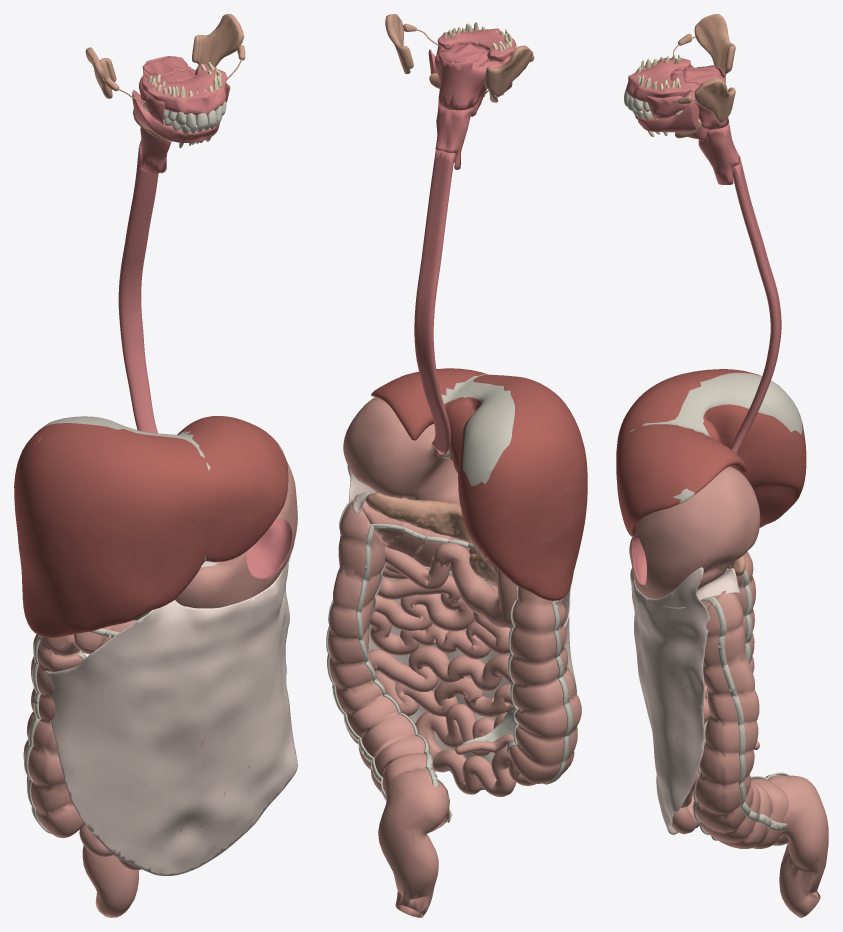
File: adult_male.digestive.LOD0.glb
3 views of the same model, side by side, from view 1: azimuth 30°, elevation 25°; view 2: azimuth 150°, elevation 25°; view 3: azimuth 270°, elevation 25° (orthographic). The views are drawn at different scales.
Visible parts, largest first — view 1: ADULT.MALE.DIGESTIVE.GREATER_OMENTUM, ADULT.MALE.DIGESTIVE.LIVER, ADULT.MALE.DIGESTIVE.ASCENDING_COLON, ADULT.MALE.DIGESTIVE.OESOPHAGUS, ADULT.MALE.DIGESTIVE.STOMACH, ADULT.MALE.DIGESTIVE.GINGIVA, ADULT.MALE.DIGESTIVE.SIGMOID_COLON, ADULT.MALE.DIGESTIVE.MUCOSA_OF_STOMACH, ADULT.MALE.DIGESTIVE.PAROTID_GLAND.L, ADULT.MALE.DIGESTIVE.MESOCOLIC_TAENIA, ADULT.MALE.DIGESTIVE.LARYNGOPHARYNX, ADULT.MALE.DIGESTIVE.SOFT_PALATE (+4 smaller); view 2: ADULT.MALE.DIGESTIVE.LIVER, ADULT.MALE.DIGESTIVE.JEJUNUM, ADULT.MALE.DIGESTIVE.DESCENDING_COLON, ADULT.MALE.DIGESTIVE.ASCENDING_COLON, ADULT.MALE.DIGESTIVE.STOMACH, ADULT.MALE.DIGESTIVE.SIGMOID_COLON, ADULT.MALE.DIGESTIVE.OESOPHAGUS, ADULT.MALE.DIGESTIVE.PANCREAS, ADULT.MALE.DIGESTIVE.DUODENUM, ADULT.MALE.DIGESTIVE.FREE_TAENIA, ADULT.MALE.DIGESTIVE.OROPHARYNX, ADULT.MALE.DIGESTIVE.GREATER_OMENTUM (+9 smaller); view 3: ADULT.MALE.DIGESTIVE.LIVER, ADULT.MALE.DIGESTIVE.GREATER_OMENTUM, ADULT.MALE.DIGESTIVE.DESCENDING_COLON, ADULT.MALE.DIGESTIVE.STOMACH, ADULT.MALE.DIGESTIVE.SIGMOID_COLON, ADULT.MALE.DIGESTIVE.OESOPHAGUS, ADULT.MALE.DIGESTIVE.GINGIVA, ADULT.MALE.DIGESTIVE.MESOCOLIC_TAENIA, ADULT.MALE.DIGESTIVE.LARYNGOPHARYNX, ADULT.MALE.DIGESTIVE.PAROTID_GLAND.R, ADULT.MALE.DIGESTIVE.OROPHARYNX, ADULT.MALE.DIGESTIVE.PAROTID_GLAND.L (+6 smaller).
Boxes of the visible parts, x1=… form: ADULT.MALE.DIGESTIVE.GREATER_OMENTUM: x1=44, y1=559, x2=297, y2=875; ADULT.MALE.DIGESTIVE.LIVER: x1=14, y1=416, x2=288, y2=637; ADULT.MALE.DIGESTIVE.ASCENDING_COLON: x1=23, y1=634, x2=84, y2=838; ADULT.MALE.DIGESTIVE.OESOPHAGUS: x1=118, y1=145, x2=158, y2=433; ADULT.MALE.DIGESTIVE.STOMACH: x1=175, y1=462, x2=297, y2=608; ADULT.MALE.DIGESTIVE.GINGIVA: x1=132, y1=64, x2=227, y2=142; ADULT.MALE.DIGESTIVE.SIGMOID_COLON: x1=82, y1=845, x2=138, y2=917; ADULT.MALE.DIGESTIVE.MUCOSA_OF_STOMACH: x1=246, y1=519, x2=292, y2=579; ADULT.MALE.DIGESTIVE.PAROTID_GLAND.L: x1=192, y1=14, x2=244, y2=66; ADULT.MALE.DIGESTIVE.MESOCOLIC_TAENIA: x1=24, y1=628, x2=119, y2=833; ADULT.MALE.DIGESTIVE.LARYNGOPHARYNX: x1=139, y1=127, x2=171, y2=174; ADULT.MALE.DIGESTIVE.SOFT_PALATE: x1=142, y1=57, x2=196, y2=82; ADULT.MALE.DIGESTIVE.LIVER: x1=371, y1=368, x2=587, y2=600; ADULT.MALE.DIGESTIVE.JEJUNUM: x1=368, y1=545, x2=535, y2=796; ADULT.MALE.DIGESTIVE.DESCENDING_COLON: x1=328, y1=499, x2=449, y2=832; ADULT.MALE.DIGESTIVE.ASCENDING_COLON: x1=509, y1=586, x2=581, y2=783; ADULT.MALE.DIGESTIVE.STOMACH: x1=343, y1=397, x2=460, y2=504; ADULT.MALE.DIGESTIVE.SIGMOID_COLON: x1=378, y1=771, x2=449, y2=917; ADULT.MALE.DIGESTIVE.OESOPHAGUS: x1=414, y1=149, x2=454, y2=454; ADULT.MALE.DIGESTIVE.PANCREAS: x1=366, y1=493, x2=497, y2=583; ADULT.MALE.DIGESTIVE.DUODENUM: x1=432, y1=543, x2=518, y2=627; ADULT.MALE.DIGESTIVE.FREE_TAENIA: x1=356, y1=523, x2=519, y2=787; ADULT.MALE.DIGESTIVE.OROPHARYNX: x1=435, y1=45, x2=511, y2=110; ADULT.MALE.DIGESTIVE.GREATER_OMENTUM: x1=347, y1=465, x2=576, y2=790; ADULT.MALE.DIGESTIVE.LIVER: x1=616, y1=369, x2=806, y2=536; ADULT.MALE.DIGESTIVE.GREATER_OMENTUM: x1=630, y1=567, x2=710, y2=834; ADULT.MALE.DIGESTIVE.DESCENDING_COLON: x1=695, y1=591, x2=788, y2=848; ADULT.MALE.DIGESTIVE.STOMACH: x1=629, y1=466, x2=760, y2=598; ADULT.MALE.DIGESTIVE.SIGMOID_COLON: x1=778, y1=775, x2=828, y2=917; ADULT.MALE.DIGESTIVE.OESOPHAGUS: x1=730, y1=157, x2=781, y2=453; ADULT.MALE.DIGESTIVE.GINGIVA: x1=626, y1=57, x2=699, y2=132; ADULT.MALE.DIGESTIVE.MESOCOLIC_TAENIA: x1=701, y1=597, x2=786, y2=831; ADULT.MALE.DIGESTIVE.LARYNGOPHARYNX: x1=698, y1=122, x2=740, y2=184; ADULT.MALE.DIGESTIVE.PAROTID_GLAND.R: x1=694, y1=14, x2=735, y2=74; ADULT.MALE.DIGESTIVE.OROPHARYNX: x1=646, y1=66, x2=728, y2=130; ADULT.MALE.DIGESTIVE.PAROTID_GLAND.L: x1=694, y1=78, x2=735, y2=123.
Size of the model in its own units: 0.2292 by 0.7728 by 0.1712.
